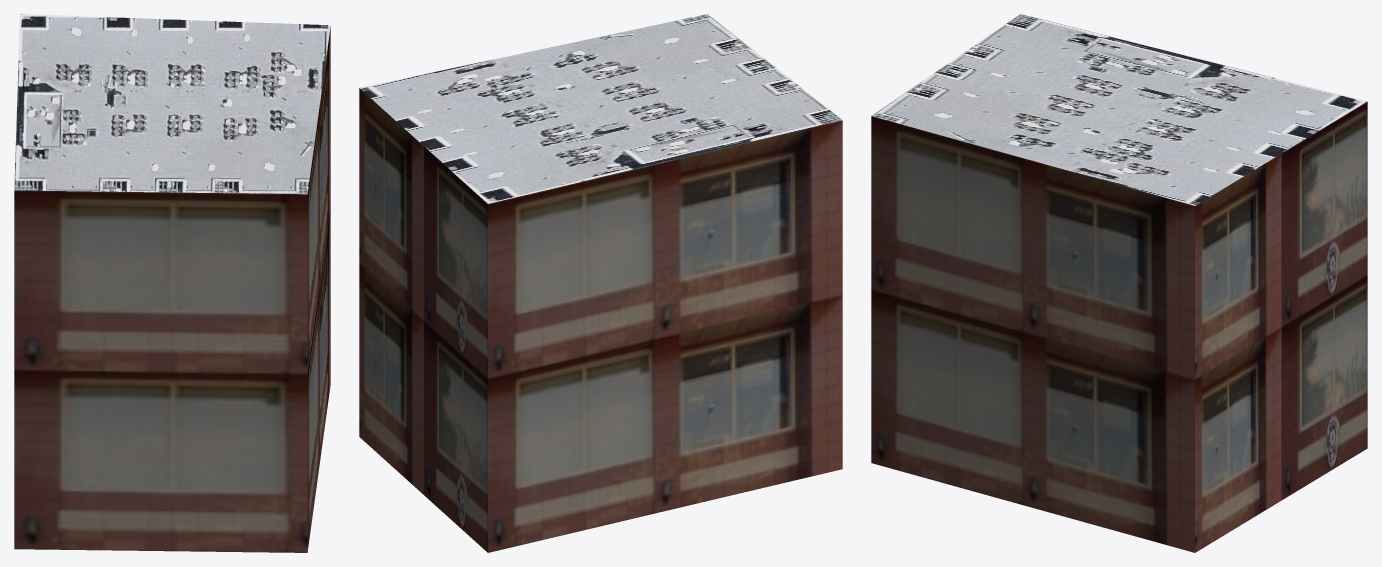
The model's file is ResTex__2467.fbx.
3 renders of one model, left to right at view 1: azimuth 30°, elevation 25°; view 2: azimuth 150°, elevation 25°; view 3: azimuth 270°, elevation 25°, orthographic. The views are drawn at different scales.
Parts seen in each view (by area): view 1: CityEngineMaterial_13_m, CityEngineMaterial_8_m; view 2: CityEngineMaterial_13_m, CityEngineMaterial_8_m; view 3: CityEngineMaterial_13_m, CityEngineMaterial_8_m.
Part boxes in pixels (left/top/right/bottom): CityEngineMaterial_13_m: left=14, top=27, right=330, bottom=552; CityEngineMaterial_8_m: left=14, top=14, right=330, bottom=194; CityEngineMaterial_13_m: left=359, top=88, right=842, bottom=552; CityEngineMaterial_8_m: left=360, top=14, right=842, bottom=203; CityEngineMaterial_13_m: left=871, top=101, right=1367, bottom=552; CityEngineMaterial_8_m: left=872, top=14, right=1367, bottom=205.
Bounding box in the file's own units: 7.12 × 6 × 7.78.
2 materials, 2 textured.
